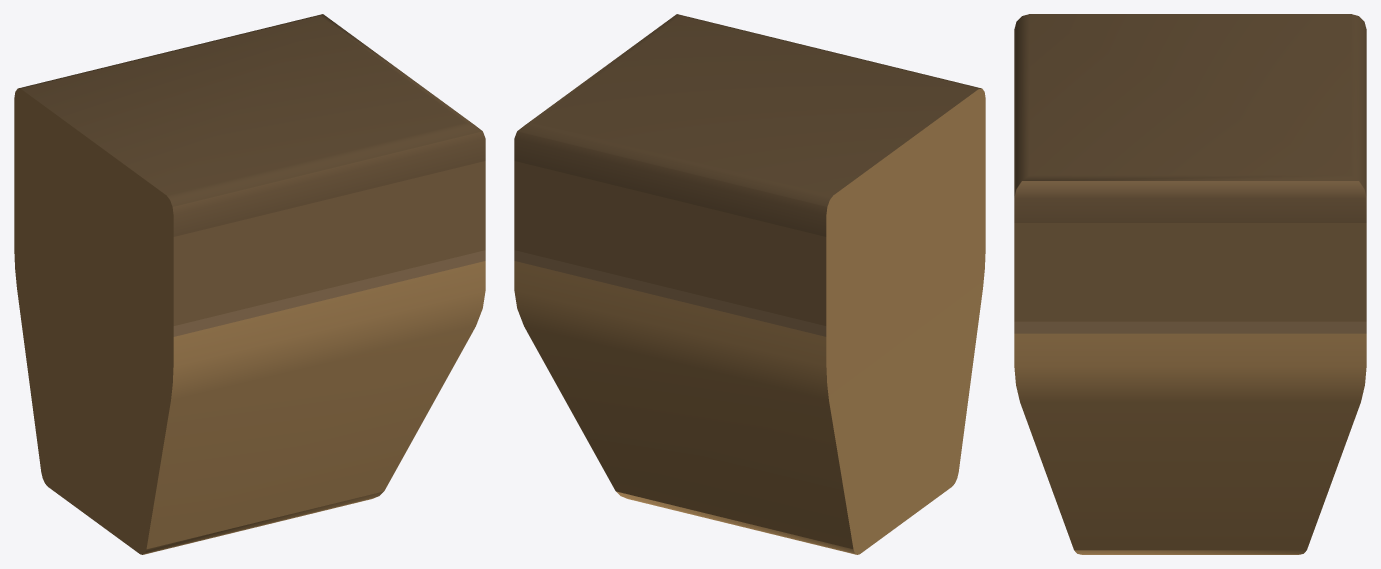
File: platform.fbx
The picture shows the model from 3 angles, left to right: view 1: azimuth 30°, elevation 25°; view 2: azimuth 150°, elevation 25°; view 3: azimuth 270°, elevation 25°; orthographic projection. The views are drawn at different scales.
Visible parts, largest first — view 1: Cube; view 2: Cube; view 3: Cube.
Part boxes in pixels (x1,y1,x2,y2): Cube: (14, 14, 485, 554); Cube: (514, 14, 985, 554); Cube: (1014, 14, 1366, 554).
Bounding box in the file's own units: 234 × 271 × 207.
